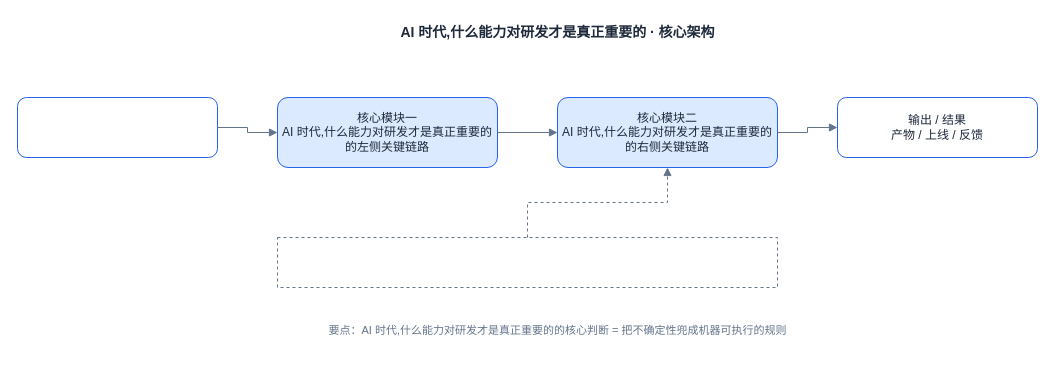
Image size: 1055x369. Some labels were removed from this diagram. Each missing label, with the centre of its shape:
"兜底层 质量 / 安全 / 监控 / 评审" goes at pixel 527 262.
"输入层 需求 / 数据 / 上游调用" goes at pixel 117 127.
